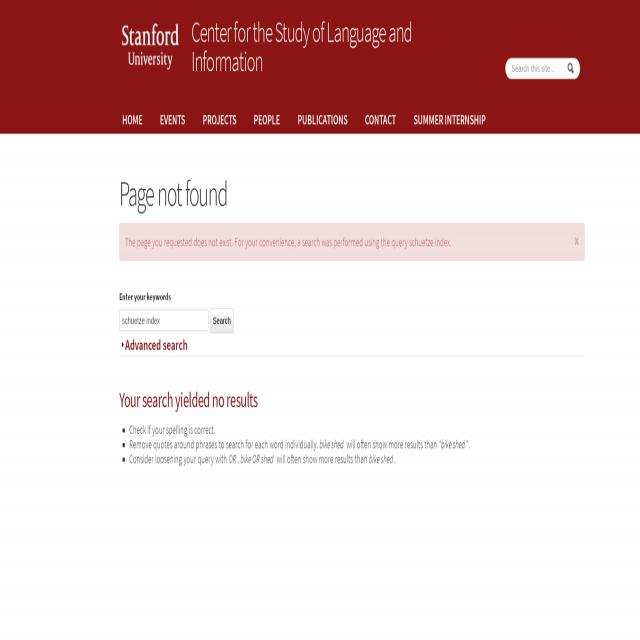button: (114, 10, 187, 83), (405, 105, 493, 134), (290, 105, 355, 134), (194, 105, 243, 134), (357, 104, 404, 133), (246, 105, 288, 134), (152, 104, 193, 133), (114, 105, 150, 134), (210, 308, 234, 333), (565, 58, 575, 77), (574, 233, 578, 247)
field: (119, 310, 209, 331), (506, 58, 580, 79)
